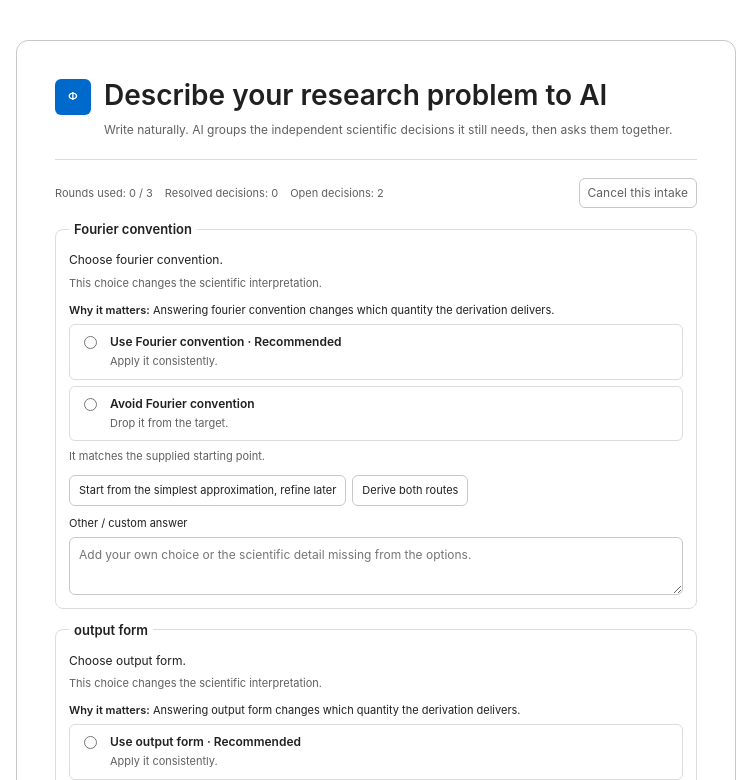
Test case: persistent frontier-based Problem Intake › keeps the refusal visible when the recovery reload also fails
Click the radio button labelled "Use Fourier convention · Recommended Apply it consistently." at (90, 342), box top-left (84, 336), bottom-right (97, 349)
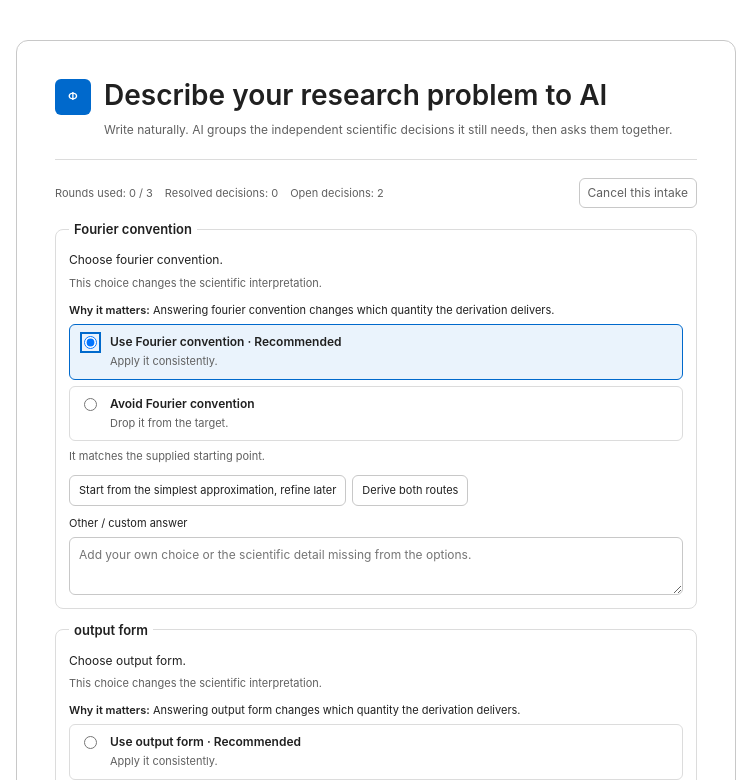
Click the radio button labelled "Use output form · Recommended Apply it consistently." at (90, 743), box top-left (84, 736), bottom-right (97, 749)
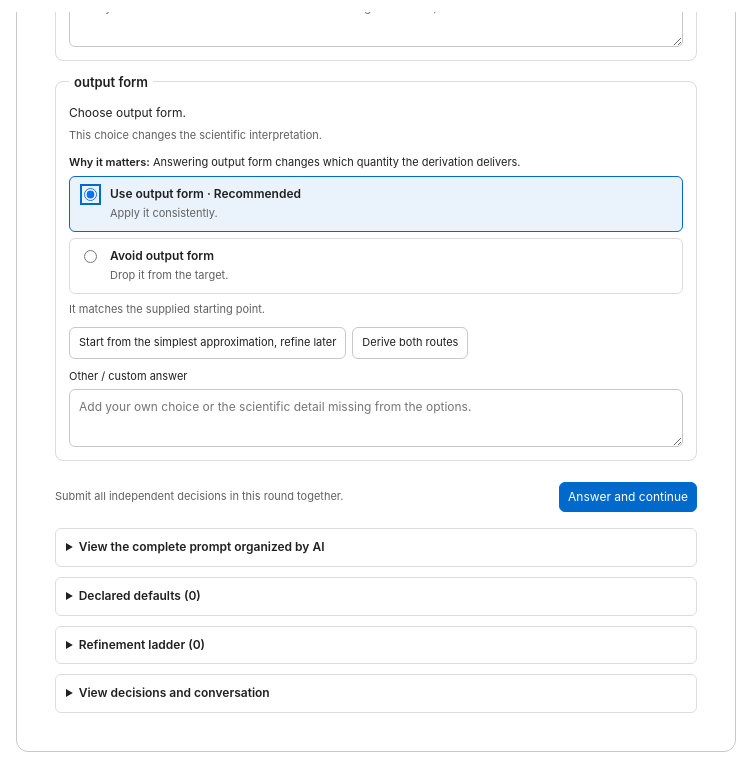
Click the button "Answer and continue" at (628, 497), box top-left (559, 482), bottom-right (697, 512)
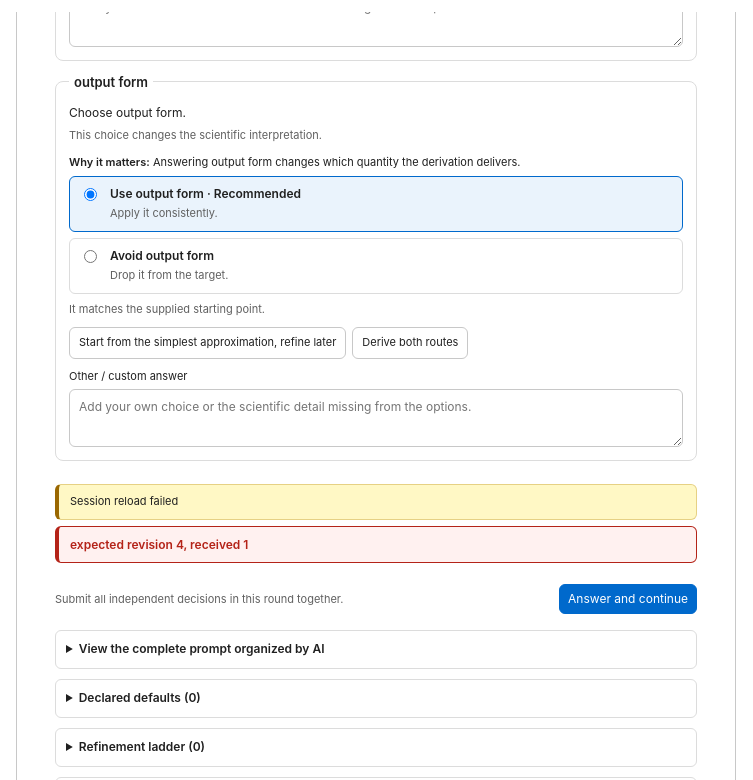
Expected: the message "expected revision 4, received 1" is shown, top-left (55, 526), bottom-right (697, 563)
Expected: the message "Session reload failed" is shown, top-left (55, 484), bottom-right (697, 520)
